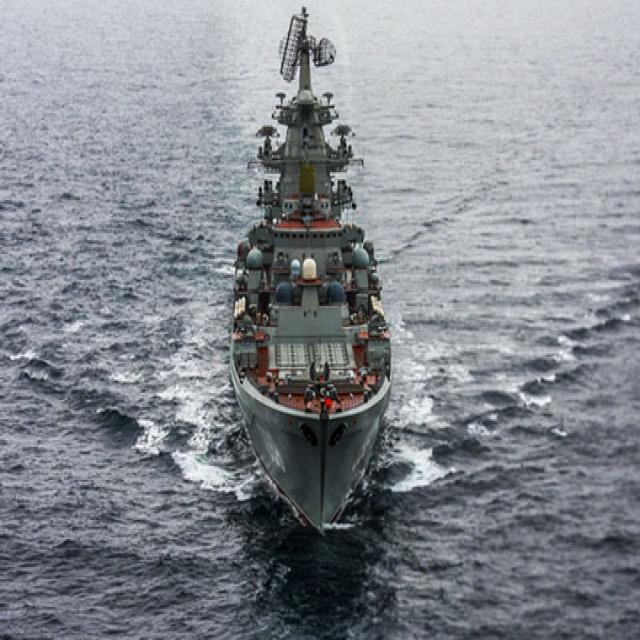navalvessels: (224, 2, 402, 530)
